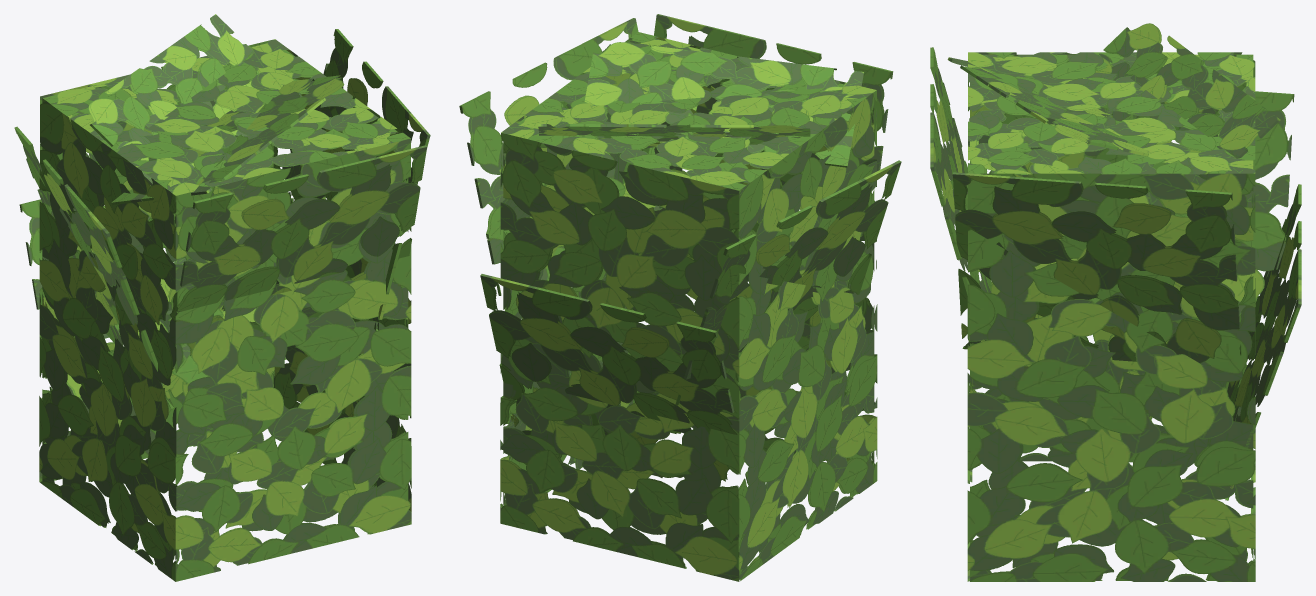
File: HedgeFencePostHand.fbx
3 views of the same model, side by side, from view 1: azimuth 30°, elevation 25°; view 2: azimuth 150°, elevation 25°; view 3: azimuth 270°, elevation 25° (orthographic). The views are drawn at different scales.
Parts seen in each view (by area): view 1: FencePost; view 2: FencePost; view 3: FencePost.
Part boxes in pixels (<box>): FencePost: <box>14,14,430,581</box>; FencePost: <box>459,14,901,581</box>; FencePost: <box>930,23,1301,581</box>.
Bounding box in the file's own units: 0.8928 × 1.06 × 0.813.
